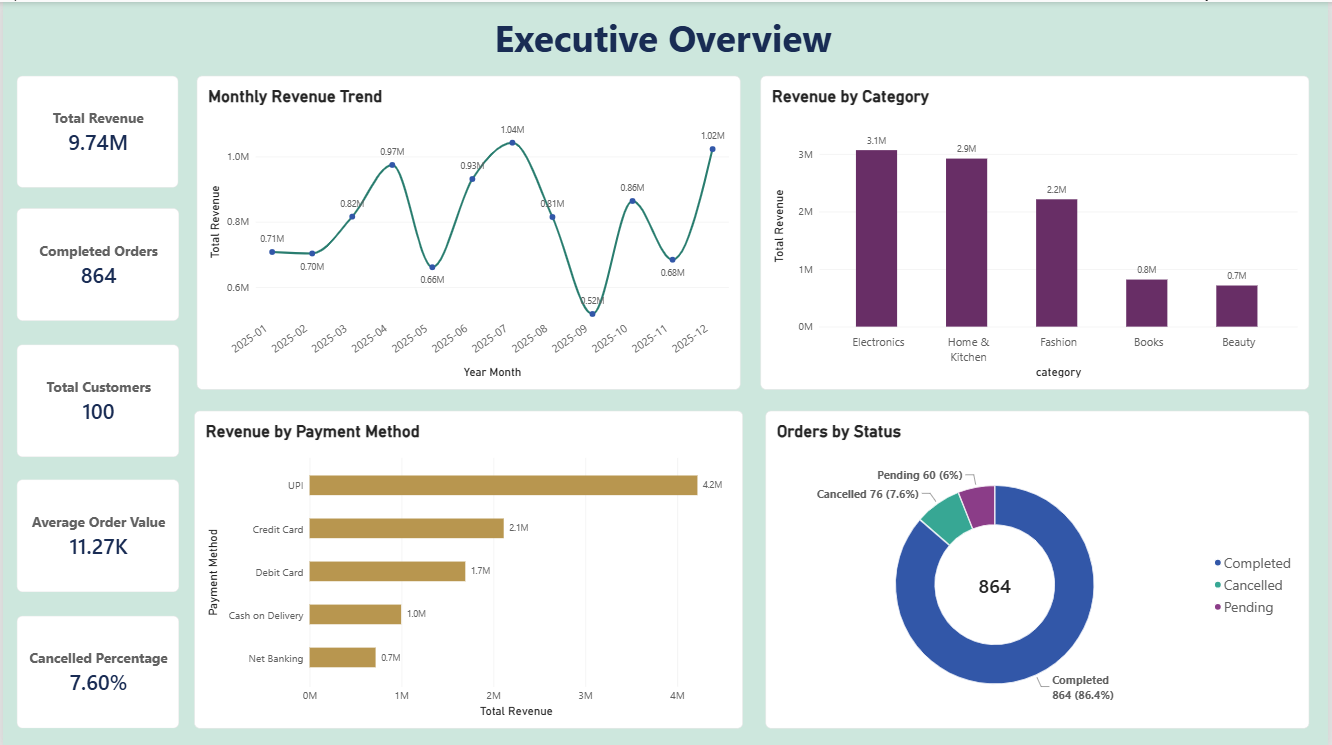

Layout of this report page (visuals, bound fields, positions):
{"tool":"powerbi","page":{"name":"Page 1","canvas":[1920,1080],"ordinal":0},"visuals":[{"type":"cardVisual","fields":{"Data":["order_items.Total Revenue"]},"box":[19.9,106.8,234.6,162.6],"z":0},{"type":"cardVisual","fields":{"Data":["orders.Completed Orders"]},"box":[19.9,298.6,235,163],"z":1000},{"type":"cardVisual","fields":{"Data":["customers.Total Customers"]},"box":[19.9,495.8,235,163],"z":2000},{"type":"cardVisual","fields":{"Data":["orders.Average Order Value"]},"box":[19.9,691.3,235,163],"z":3000},{"type":"cardVisual","fields":{"Data":["orders.Cancelled Percentage"]},"box":[19.9,888.5,235,163],"z":4000},{"type":"lineChart","title":"Monthly Revenue Trend","fields":{"Category":["DateTable.Year Month"],"Y":["order_items.Total Revenue"]},"box":[280.5,106.8,787.2,454.2],"z":5000},{"type":"clusteredColumnChart","title":"Revenue by Category","fields":{"Category":["products.category"],"Y":["order_items.Total Revenue"]},"box":[1096.7,106.8,794.4,454.2],"z":6000},{"type":"donutChart","title":"Orders by Status","fields":{"Category":["orders.order_status"],"Y":["orders.Total orders"]},"box":[1103.9,591.8,787.2,459.7],"z":7000},{"type":"clusteredBarChart","title":"Revenue by Payment Method","fields":{"Category":["orders.payment_method"],"Y":["order_items.Total Revenue"]},"box":[276.9,591.8,794,460],"z":8000},{"type":"textbox","box":[19.9,14.5,1871.2,92.3],"z":9000}]}

Visuals, with their boxes in screenshot pixels (x1, y1, x2, y2), scaled from the page's 1920x1080 canvas onto the 1332x745 screenshot:
cardVisual - order_items.Total Revenue: 14,74,177,186
cardVisual - orders.Completed Orders: 14,206,177,318
cardVisual - customers.Total Customers: 14,342,177,454
cardVisual - orders.Average Order Value: 14,477,177,589
cardVisual - orders.Cancelled Percentage: 14,613,177,725
"Monthly Revenue Trend" lineChart: 195,74,741,387
"Revenue by Category" clusteredColumnChart: 761,74,1312,387
"Orders by Status" donutChart: 766,408,1312,725
"Revenue by Payment Method" clusteredBarChart: 192,408,743,726
textbox: 14,10,1312,74
